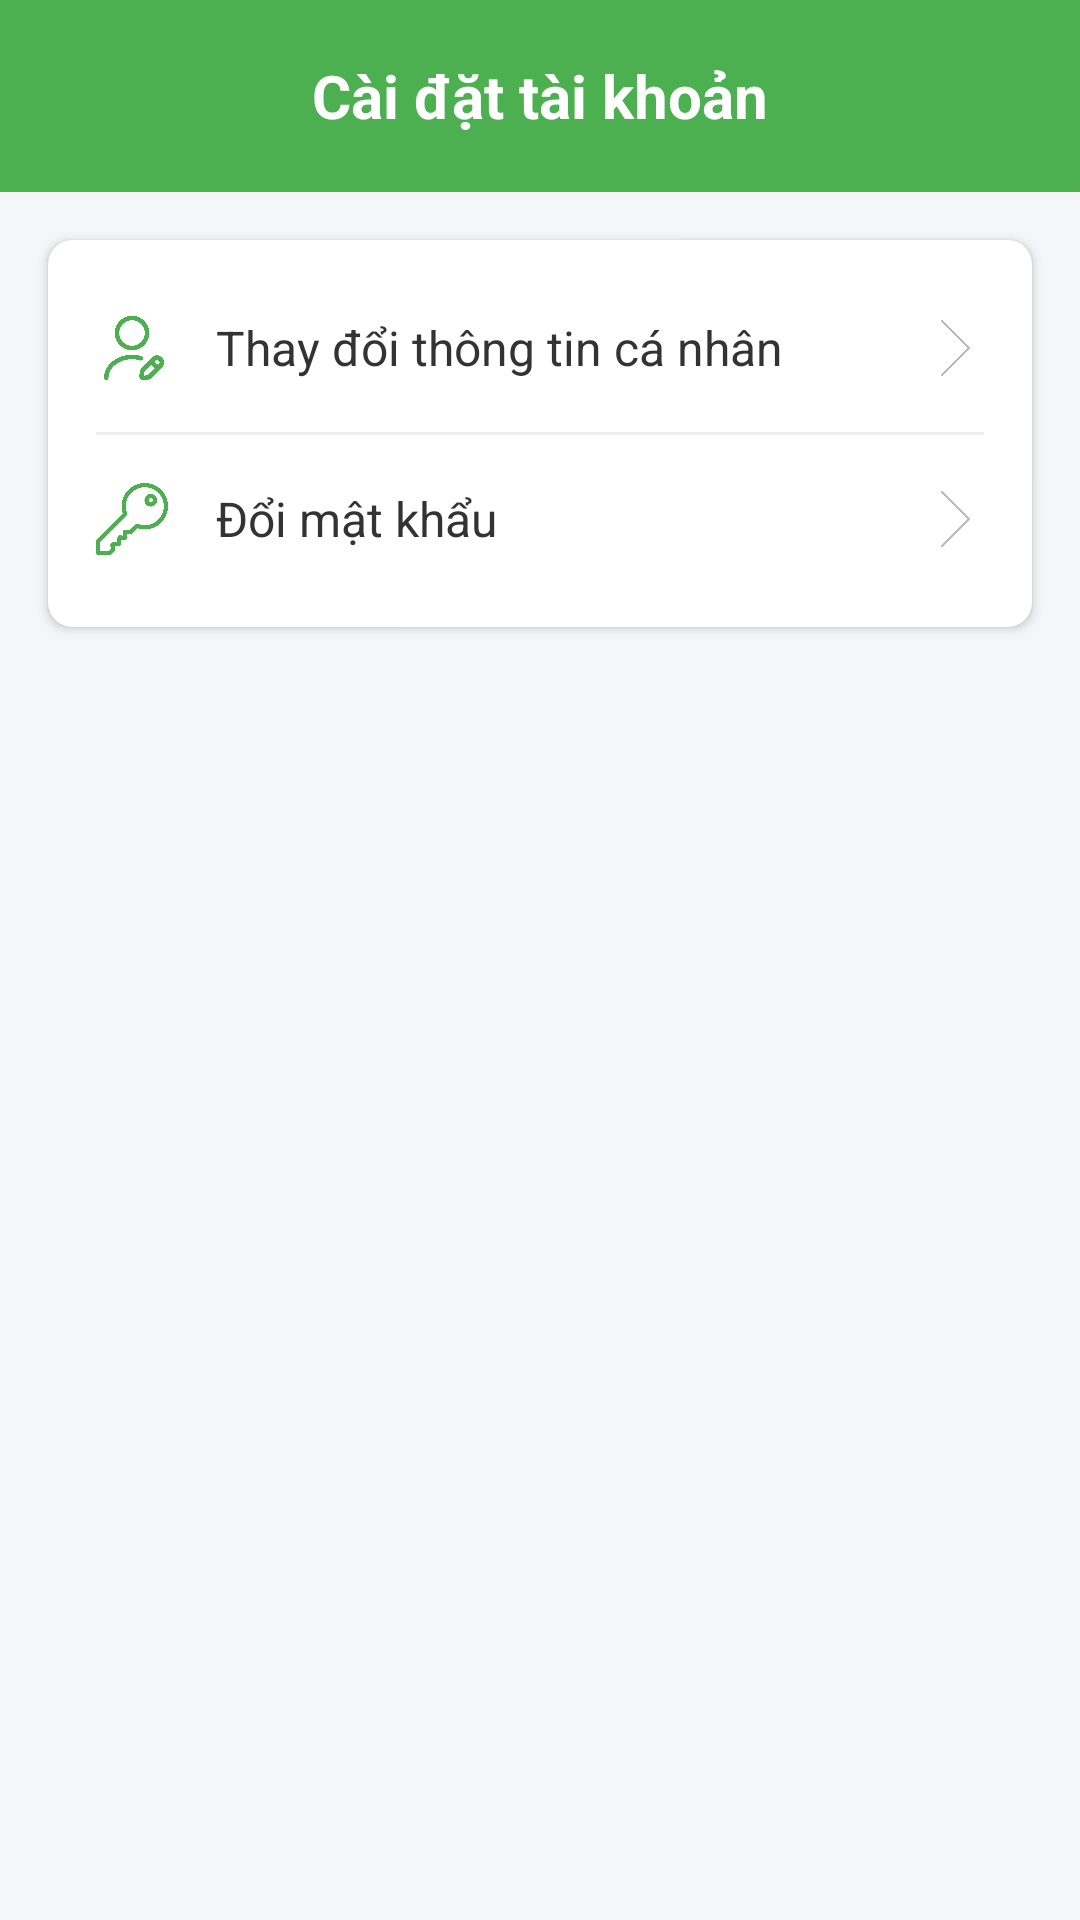

Icons on this 1080w x 1920h Android screen, each with its box as Rect(x1, y1, x2, y2):
edp: Rect(104, 316, 164, 380)
pass: Rect(96, 483, 168, 555)
